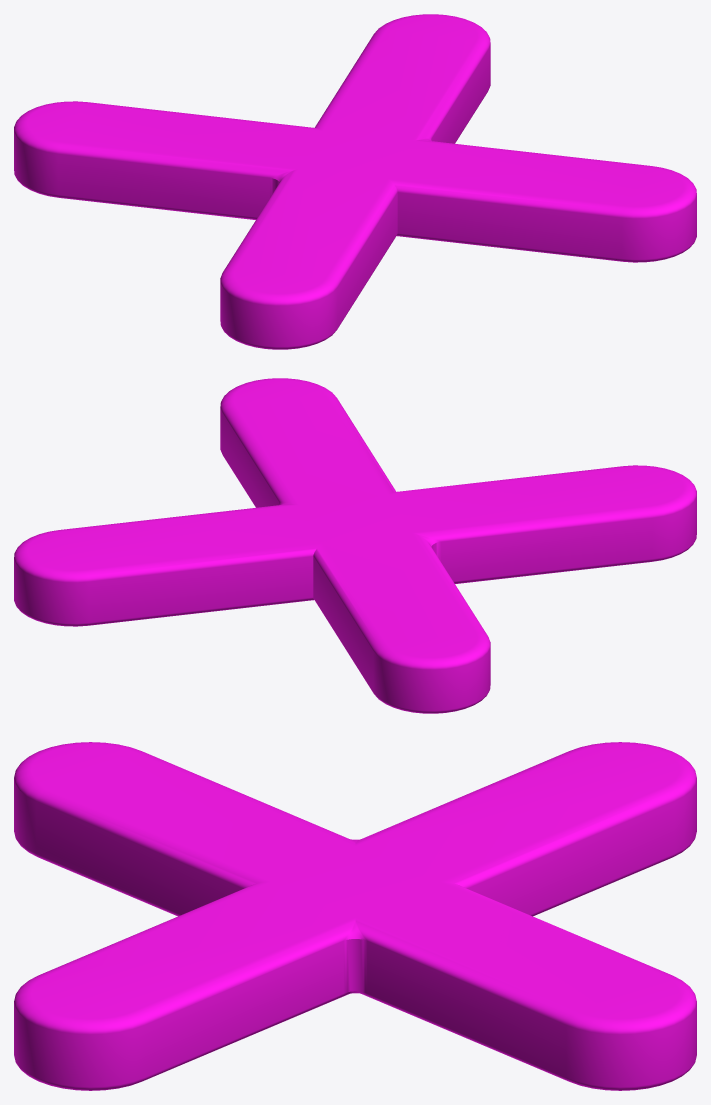
3 renders of one model, top to bottom at view 1: azimuth 30°, elevation 25°; view 2: azimuth 150°, elevation 25°; view 3: azimuth 270°, elevation 25°, orthographic. The views are drawn at different scales.
Parts seen in each view (by area): view 1: SM_X; view 2: SM_X; view 3: SM_X.
Boxes of the visible parts, x1,y1,x2,y2 form: SM_X: [14, 14, 696, 349]; SM_X: [14, 378, 696, 713]; SM_X: [14, 742, 696, 1090].
Bounding box in the file's own units: 80 × 8.96 × 80.
